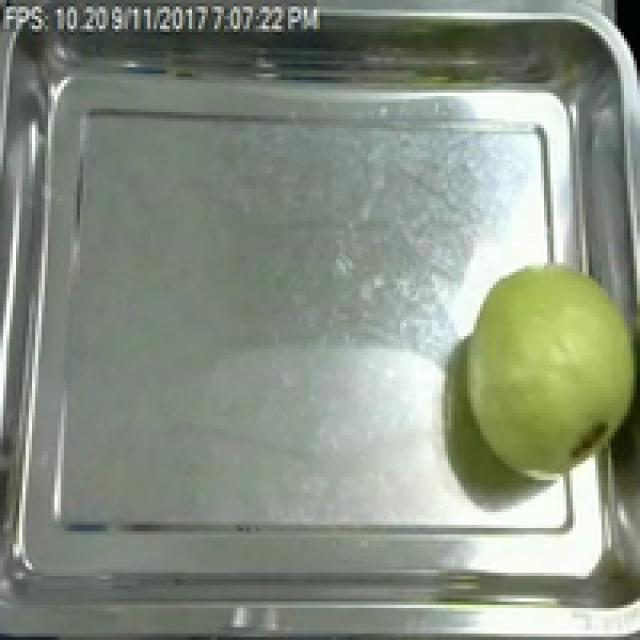Fruit: (445, 250, 640, 492)
